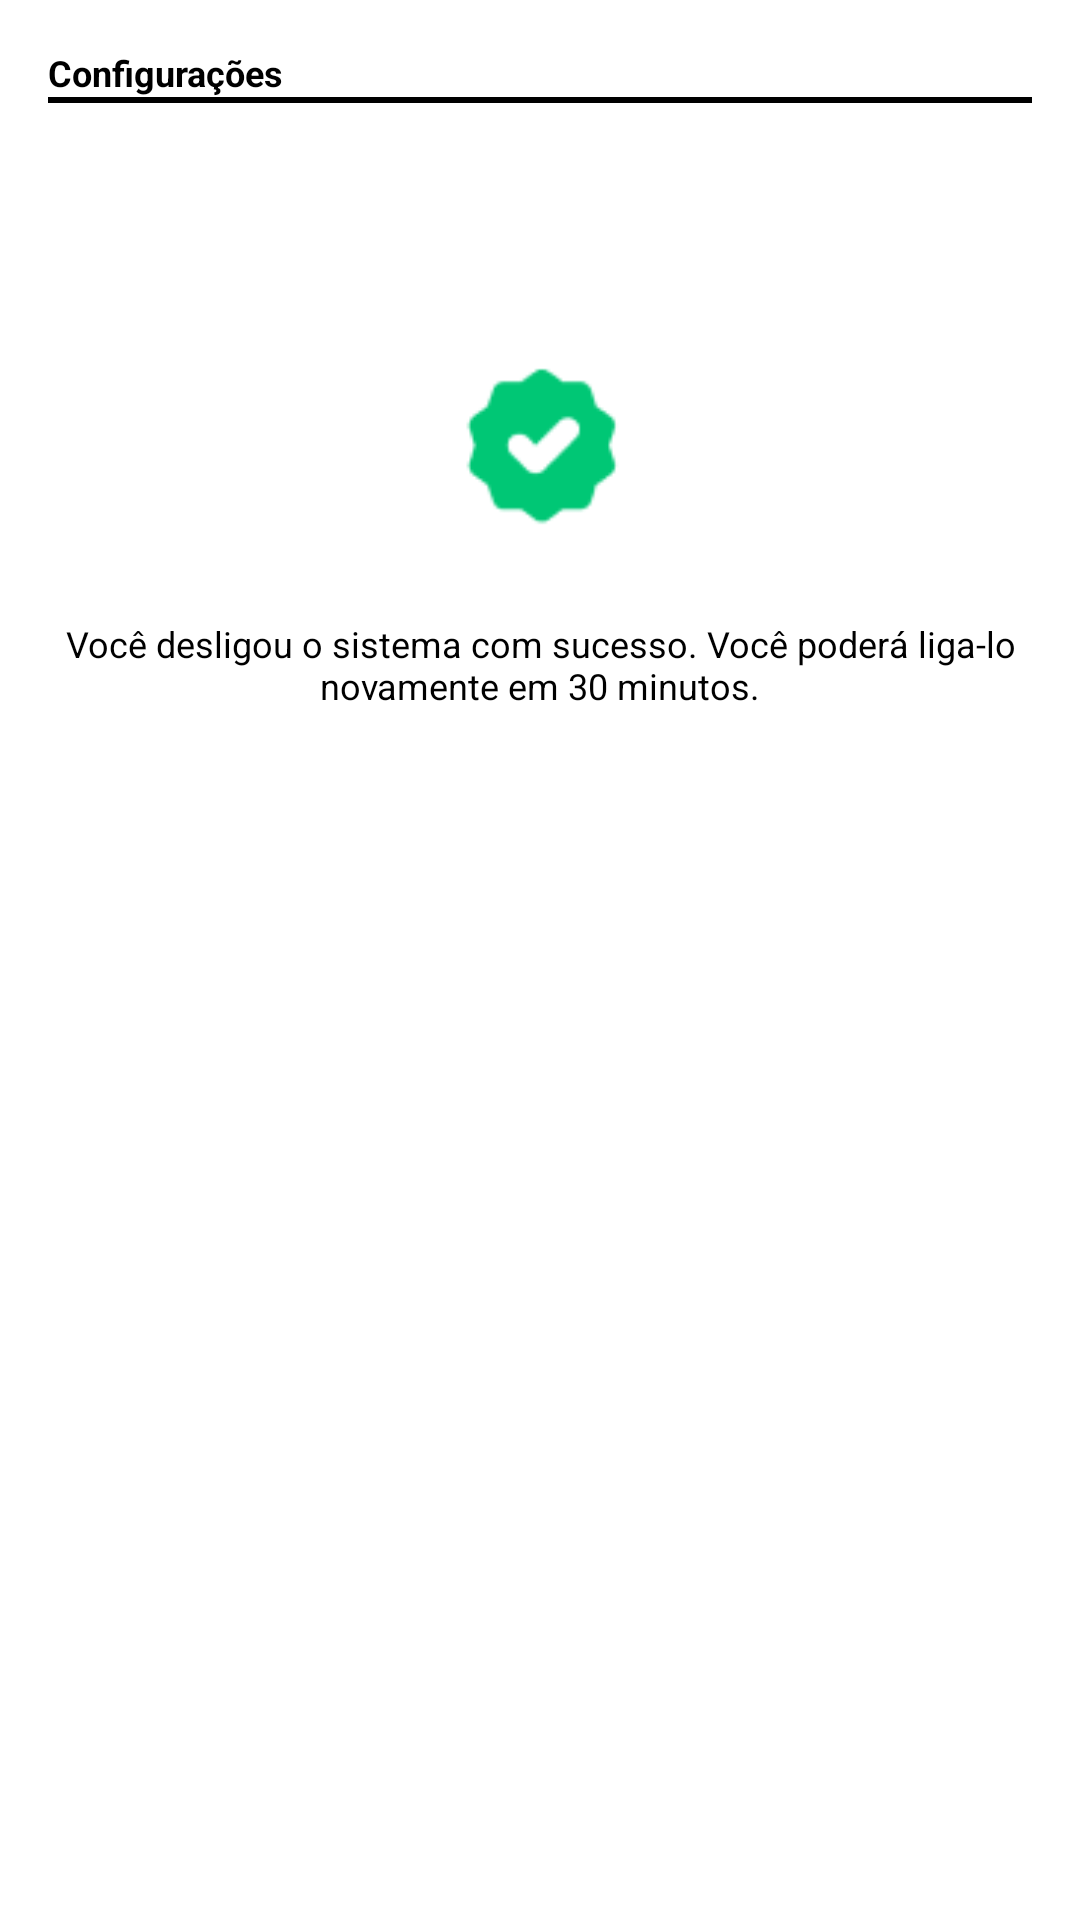

Point at icon controls on the screen. Image size 1080*1920, points as [x,y].
success: [541,446]
